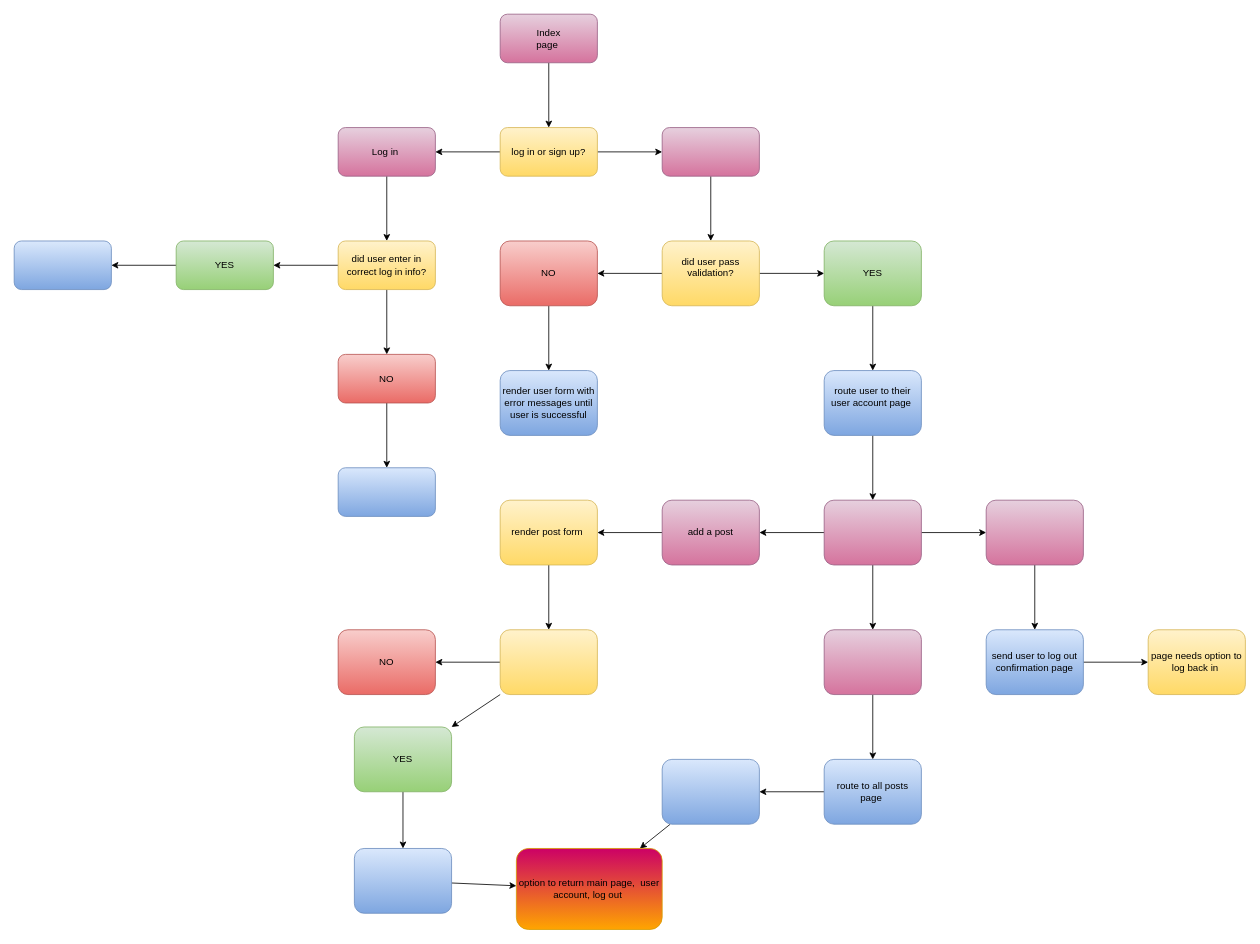
This 1260x944 diagram has some shape labels left out. Here are the shapes that lost their labels. From the top down, the centre of each, then its label:
the point at 710,151: Sign up: render signup form
the point at 62,265: Take to main page showing all user posts: route '/home/
the point at 386,491: return log in page with error messages
the point at 872,532: user account page
the point at 1034,532: log out
the point at 548,662: did user add a title
the point at 872,662: view all posts
the point at 710,791: if user selects a post render single post page showing selected post or modal
the point at 403,880: render single post
